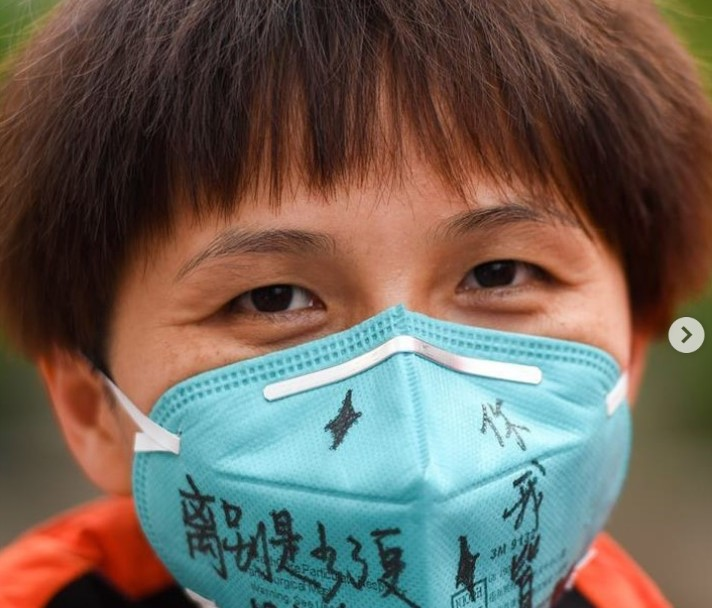face_with_mask: (36, 0, 650, 608)
